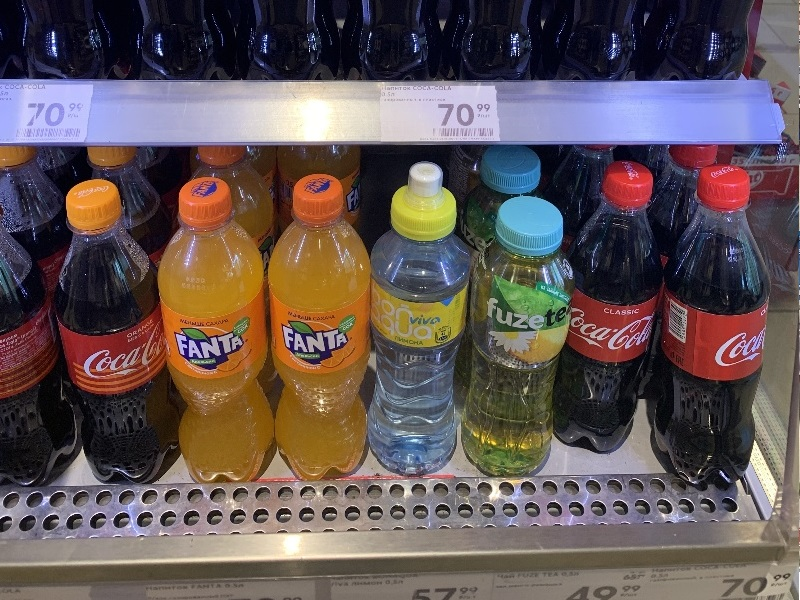lemonade: (49, 177, 188, 500), (149, 176, 286, 493), (359, 158, 485, 501), (255, 175, 385, 487), (660, 169, 770, 501), (467, 189, 573, 491), (560, 159, 661, 466)
